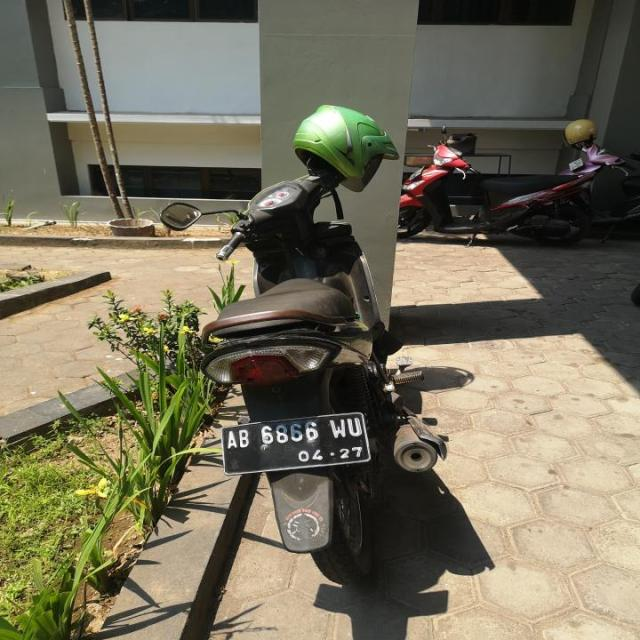License Plate: (220, 410, 376, 476)
